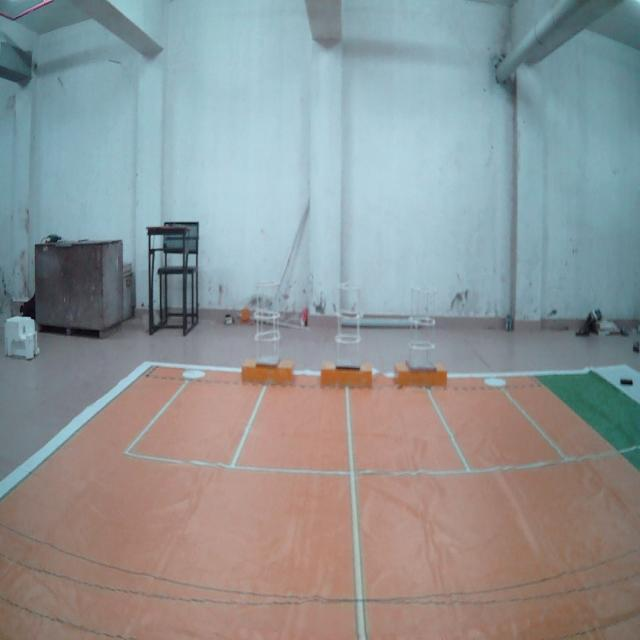silo: (408, 281, 439, 375), (254, 276, 282, 370), (333, 280, 362, 370)
